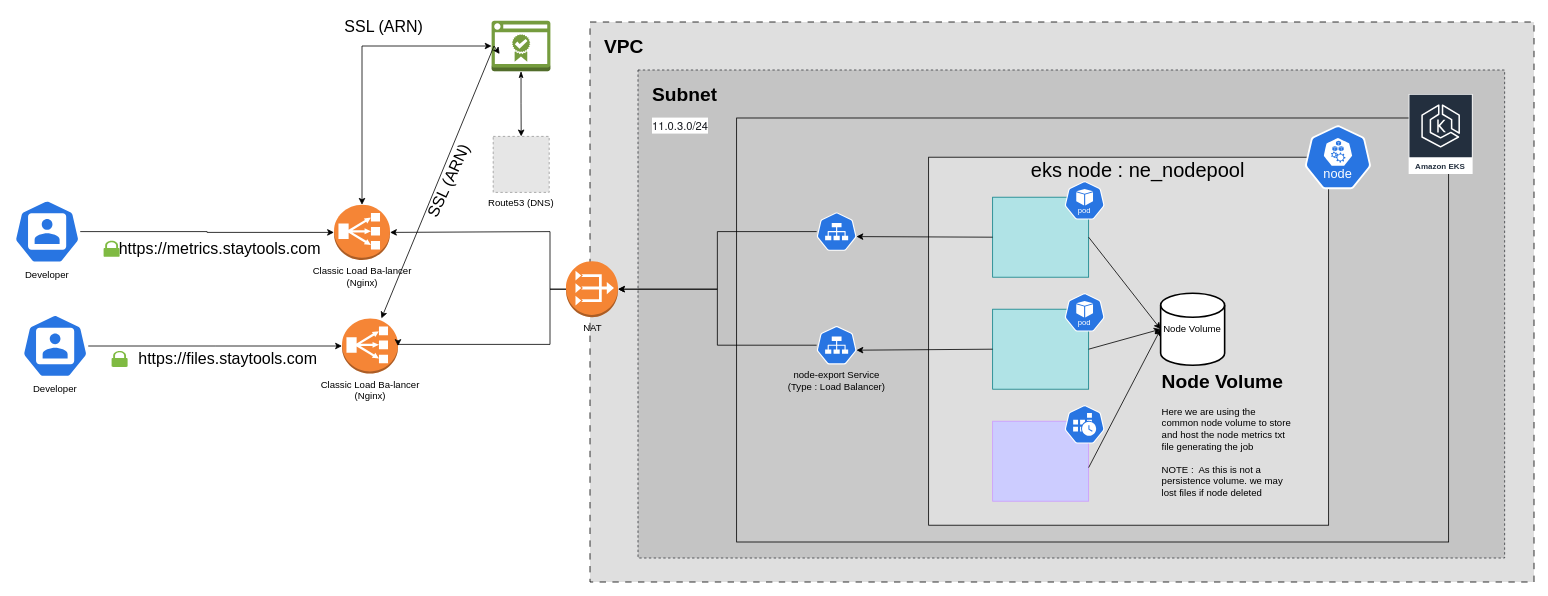
Some shapes in this 1548 by 596 pixel diagram are drawn without their labels. Grey dashed boxes stand in for pictures. The box of each missing label's shape, as (x1, y1, x2, y2) in pixels:
AWS ACM: (491, 20, 550, 71)
Nginx (Pod): (992, 196, 1089, 277)
Nginx Service (Type : Load Balancer): (816, 212, 857, 251)
node-exporte (Pod): (992, 308, 1089, 389)
node-metrics-cronjob (cronjob): (992, 420, 1089, 501)
